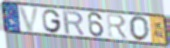6: (87, 12, 104, 39)
G: (41, 8, 63, 34)
O: (128, 15, 151, 42)
R: (105, 13, 130, 41), (62, 9, 86, 36)
V: (18, 6, 42, 33)
